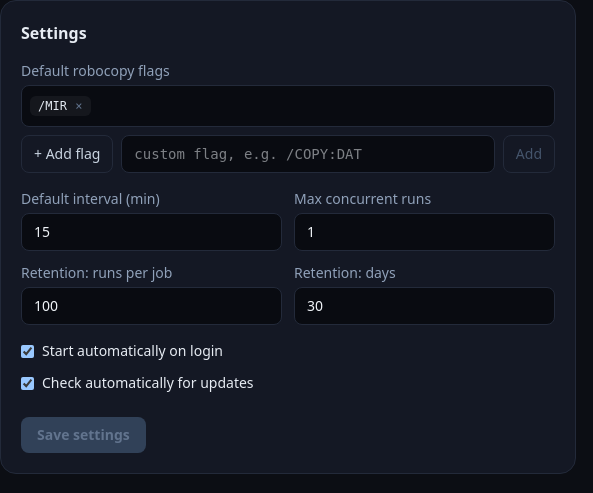
Test case: SettingsTab › shows Cancel on change, and Cancel reverts the edit
Replace the text in the number field labelled "Max concurrent runs" with "3". click: (424, 232)
box: [294, 213, 555, 251]
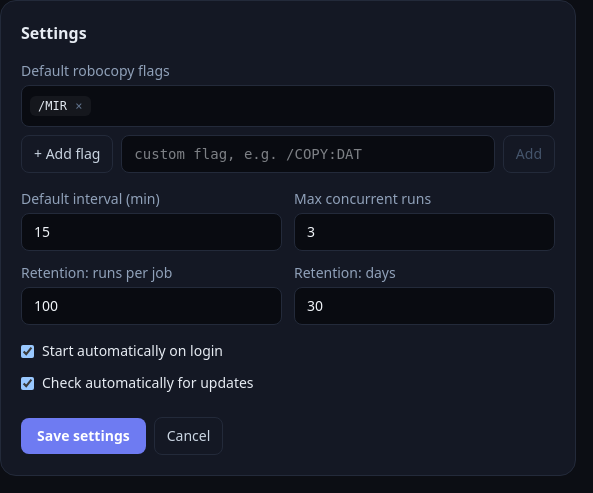
Check: the button "Save settings" is enabled, box [21, 418, 146, 454]
Click the button "Cancel". click: click(188, 436)
box: [154, 417, 223, 455]
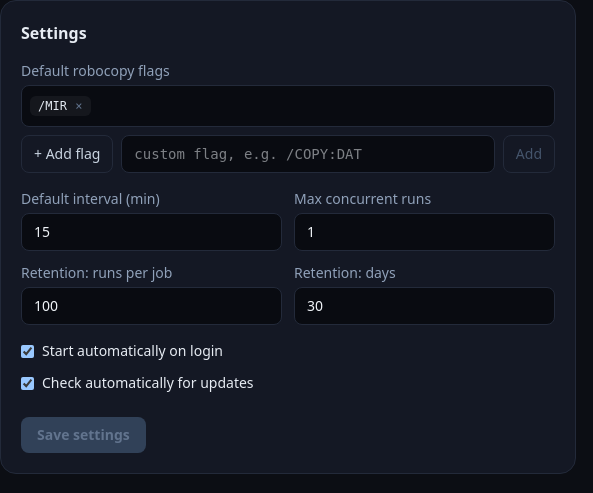
Check: the number field labelled "Max concurrent runs" holds "1", box [294, 213, 555, 251]
Check: the button "Cancel" is gone
